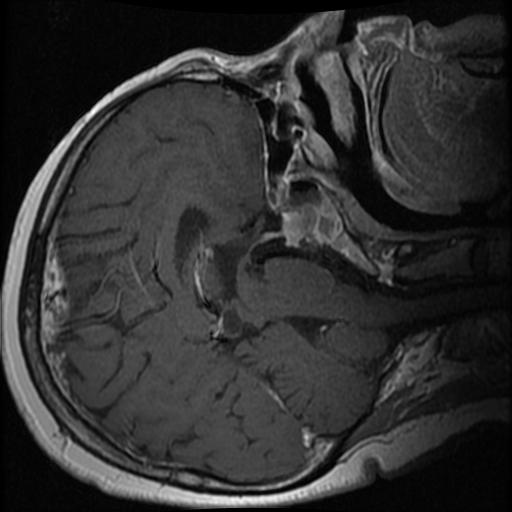pituitary tumour: (280, 203, 318, 243)
